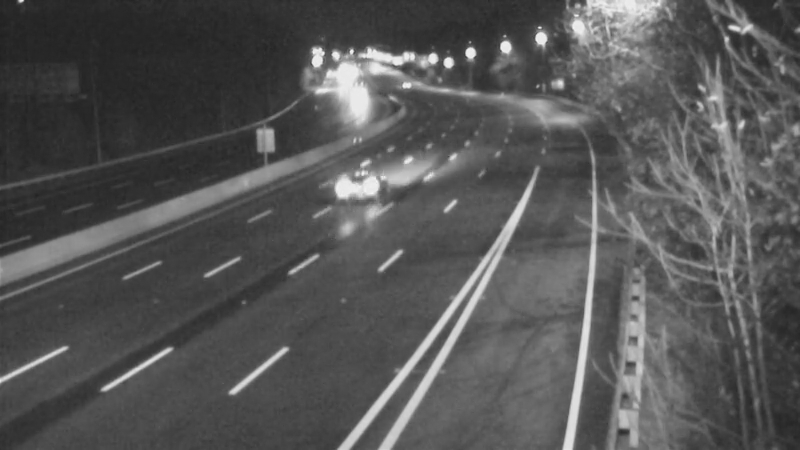vehicle: (324, 152, 404, 232), (379, 59, 429, 109), (329, 80, 379, 130)
